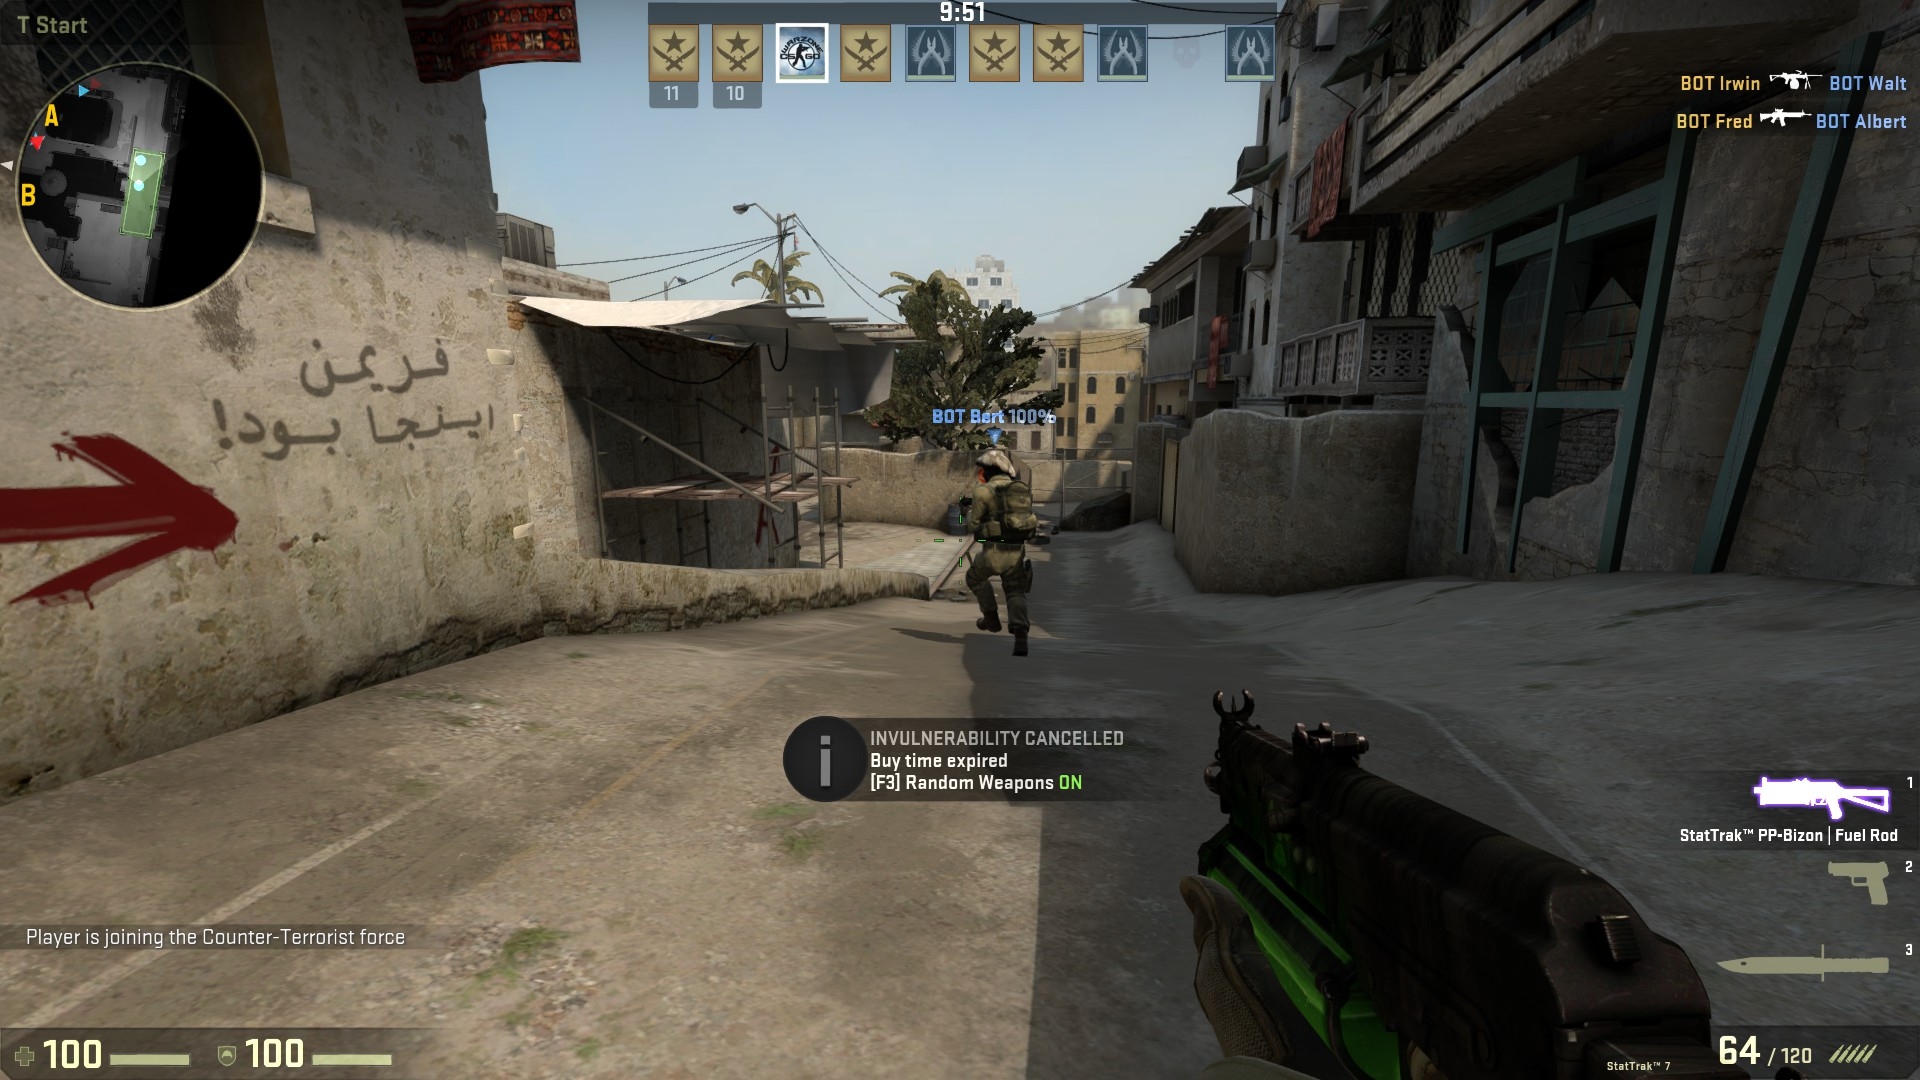c: (961, 452, 1044, 659)
ch: (975, 448, 1018, 487)
